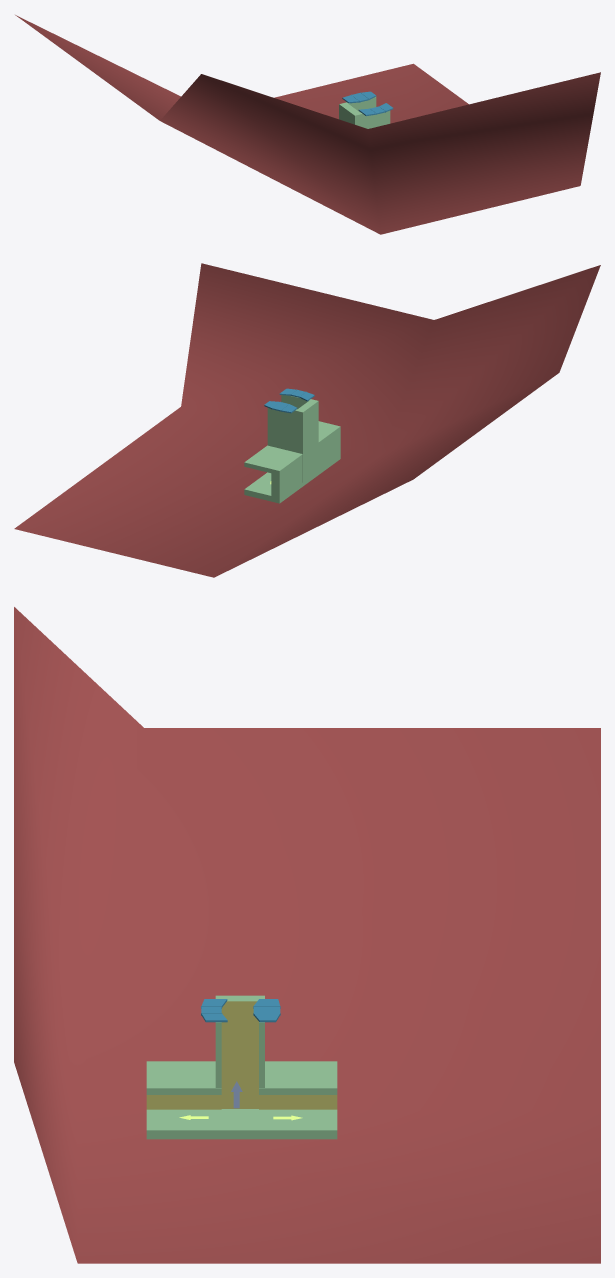
File: elevator.fbx
3 renders of one model, top to bottom at view 1: azimuth 30°, elevation 25°; view 2: azimuth 150°, elevation 25°; view 3: azimuth 270°, elevation 25°, orthographic. The views are drawn at different scales.
Visible parts, largest first — view 1: pCube147, polySurface5; view 2: pCube147, polySurface5; view 3: pCube147, polySurface5, polySurface6, polySurface3, polySurface4, polySurface2.
Boxes of the visible parts, box(x1,y1,x2,y2) form: pCube147: box(15, 15, 600, 234); polySurface5: box(339, 97, 390, 128); pCube147: box(14, 263, 600, 577); polySurface5: box(244, 395, 340, 503); pCube147: box(14, 607, 600, 1263); polySurface5: box(146, 995, 337, 1139); polySurface6: box(221, 1001, 258, 1066); polySurface3: box(221, 1073, 258, 1108); polySurface4: box(259, 1095, 337, 1109); polySurface2: box(146, 1095, 221, 1109).
Size of the model in its own units: 28.22 by 15.15 by 22.92.
